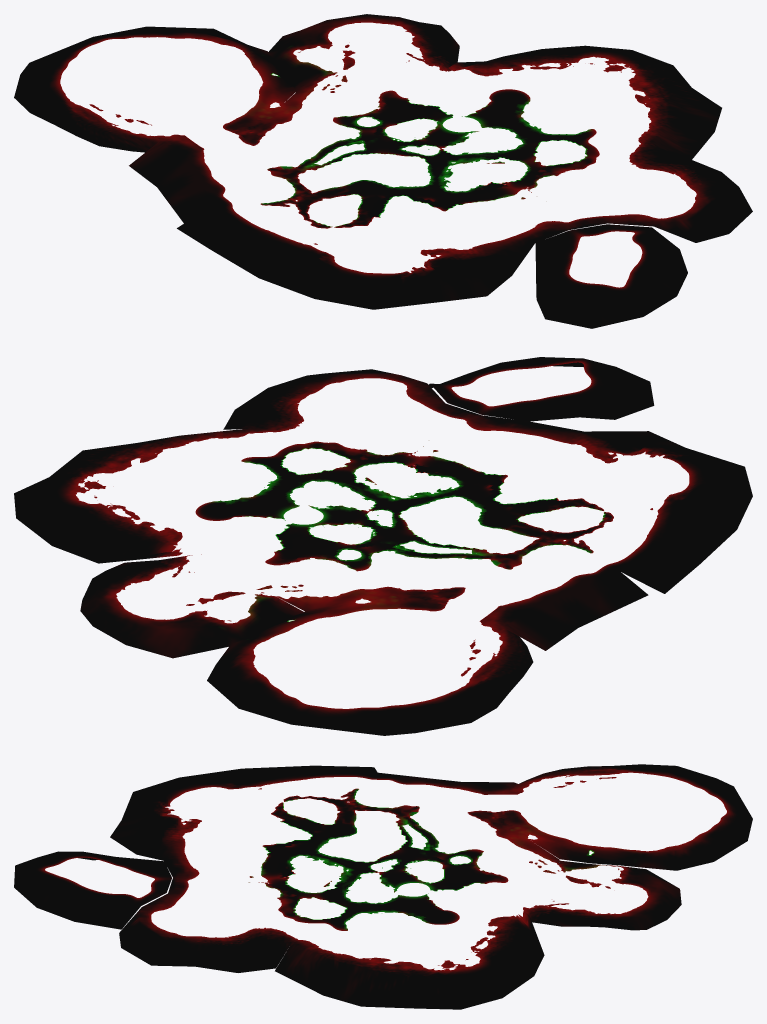
The model's file is dimianhuanjing.FBX.
3 renders of one model, top to bottom at view 1: azimuth 30°, elevation 25°; view 2: azimuth 150°, elevation 25°; view 3: azimuth 270°, elevation 25°, orthographic. The views are drawn at different scales.
Visible parts, largest first — view 1: dibuaohuanjing06, dibuaohuanjing05, dibuaohuanjing08, dibuaohuanjing01, dibuaohuanjing07, dibuaohuanjing04, dibuaohuanjing02, dibuaohuanjing03; view 2: dibuaohuanjing06, dibuaohuanjing05, dibuaohuanjing01, dibuaohuanjing03, dibuaohuanjing04, dibuaohuanjing07, dibuaohuanjing02, dibuaohuanjing08; view 3: dibuaohuanjing05, dibuaohuanjing06, dibuaohuanjing07, dibuaohuanjing01, dibuaohuanjing08, dibuaohuanjing04, dibuaohuanjing03, dibuaohuanjing02.
Part boxes in pixels (<box>): dibuaohuanjing06: <box>177,173,534,309</box>; dibuaohuanjing05: <box>447,45,721,163</box>; dibuaohuanjing08: <box>535,224,687,328</box>; dibuaohuanjing01: <box>14,26,295,152</box>; dibuaohuanjing07: <box>476,145,752,243</box>; dibuaohuanjing04: <box>213,78,458,204</box>; dibuaohuanjing02: <box>129,106,279,223</box>; dibuaohuanjing03: <box>268,14,459,92</box>; dibuaohuanjing06: <box>419,421,752,593</box>; dibuaohuanjing05: <box>14,429,392,563</box>; dibuaohuanjing01: <box>207,599,533,735</box>; dibuaohuanjing03: <box>80,554,303,658</box>; dibuaohuanjing04: <box>262,493,620,611</box>; dibuaohuanjing07: <box>223,369,529,475</box>; dibuaohuanjing02: <box>363,572,648,650</box>; dibuaohuanjing08: <box>429,357,654,421</box>; dibuaohuanjing05: <box>275,871,544,1009</box>; dibuaohuanjing06: <box>110,765,377,866</box>; dibuaohuanjing07: <box>119,859,314,972</box>; dibuaohuanjing01: <box>519,764,752,870</box>; dibuaohuanjing08: <box>14,851,171,929</box>; dibuaohuanjing04: <box>329,773,559,890</box>; dibuaohuanjing03: <box>523,860,681,930</box>; dibuaohuanjing02: <box>378,772,527,838</box>.
Size of the model in its own units: 2158 by 76.24 by 2837.
